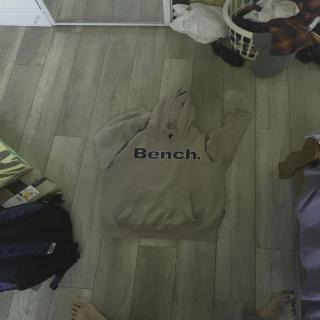Yellow Hoodie: (90, 96, 250, 239)
